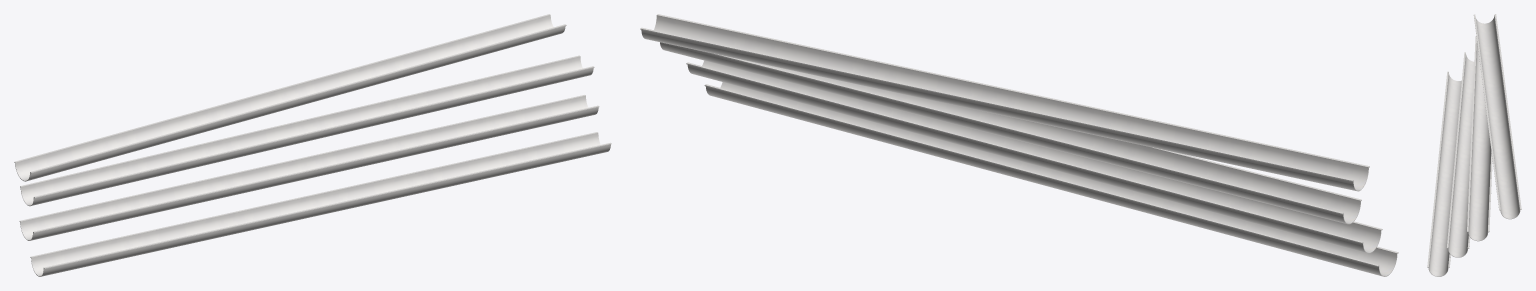
File: COB-CAL-002_anim.glb
3 views of the same model, side by side, from view 1: azimuth 30°, elevation 25°; view 2: azimuth 150°, elevation 25°; view 3: azimuth 270°, elevation 25° (orthographic). The views are drawn at different scales.
Visible parts, largest first — view 1: COB-CAL-002_anim0, COB-CAL-002_anim1, COB-CAL-002_anim2, COB-CAL-002_anim3; view 2: COB-CAL-002_anim3, COB-CAL-002_anim2, COB-CAL-002_anim1, COB-CAL-002_anim0; view 3: COB-CAL-002_anim3, COB-CAL-002_anim0, COB-CAL-002_anim2, COB-CAL-002_anim1.
Boxes of the visible parts, x1,y1,x2,y2 form: COB-CAL-002_anim0: (30, 132, 611, 276); COB-CAL-002_anim1: (19, 95, 599, 240); COB-CAL-002_anim2: (20, 55, 594, 206); COB-CAL-002_anim3: (14, 14, 566, 181); COB-CAL-002_anim3: (640, 14, 1369, 191); COB-CAL-002_anim2: (660, 42, 1361, 224); COB-CAL-002_anim1: (686, 60, 1382, 253); COB-CAL-002_anim0: (704, 82, 1398, 276); COB-CAL-002_anim3: (1473, 14, 1521, 219); COB-CAL-002_anim0: (1427, 71, 1461, 276); COB-CAL-002_anim2: (1467, 36, 1492, 241); COB-CAL-002_anim1: (1446, 52, 1474, 257).
Size of the model in its own units: 3.05 by 0.489 by 0.6117.
Materials: 1 (1 with a texture image).
